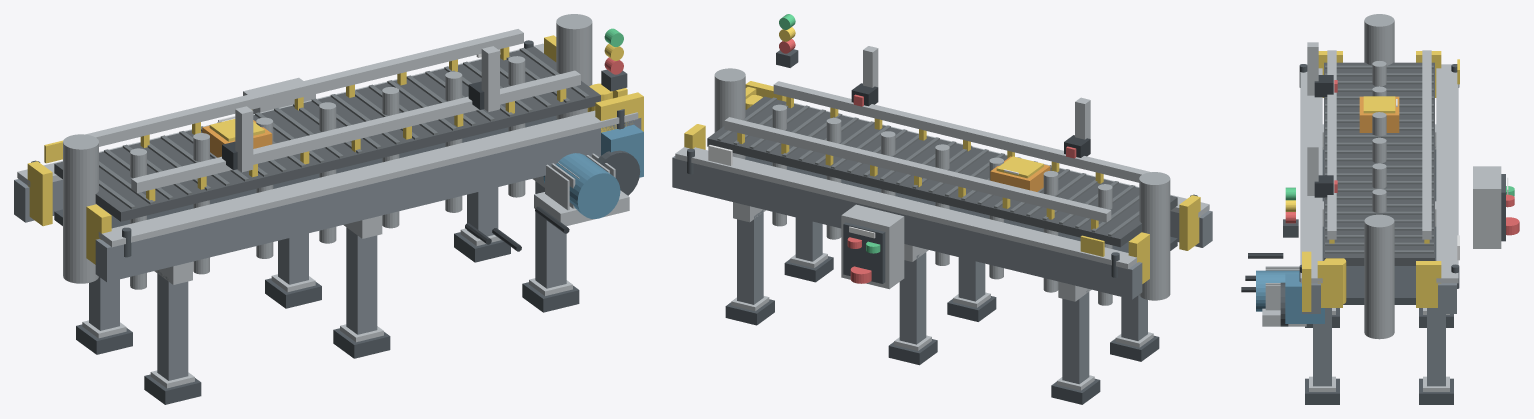
File: esteira_industrial_interativa.glb
The picture shows the model from 3 angles, left to right: view 1: azimuth 30°, elevation 25°; view 2: azimuth 150°, elevation 25°; view 3: azimuth 270°, elevation 25°; orthographic projection. The views are drawn at different scales.
Parts seen in each view (by area): view 1: Belt_Top, Side_Rail_0.43, Side_Rail_Top_0.43, Guide_Rail_-0.3, Guide_Rail_0.3, End_Roller_0, Leg_-1.15_0.36, Leg_0_0.36, Motor_Body, End_Roller_1, Leg_1.15_0.36, Belt_Underside (+31 smaller); view 2: Belt_Top, Side_Rail_-0.43, Side_Rail_Top_-0.43, Guide_Rail_-0.3, Guide_Rail_0.3, End_Roller_0, Control_Box, Leg_-1.15_-0.36, Leg_1.15_-0.36, Leg_0_-0.36, End_Roller_1, Control_Box_Face (+24 smaller); view 3: Belt_Top, Side_Rail_Top_-0.43, End_Roller_1, Side_Rail_Top_0.43, Control_Box, Guide_Rail_-0.3, Guide_Rail_0.3, Belt_Underside, End_Roller_0, Leg_1.15_-0.36, Leg_1.15_0.36, Roller_Guard_1.57_0.31 (+42 smaller).
Part boxes in pixels (x1,y1,x2,y2): Belt_Top: (54, 46, 600, 221); Side_Rail_0.43: (95, 118, 641, 282); Side_Rail_Top_0.43: (98, 110, 638, 247); Guide_Rail_-0.3: (85, 29, 523, 146); Guide_Rail_0.3: (131, 70, 580, 193); End_Roller_0: (63, 134, 98, 283); Leg_-1.15_0.36: (157, 271, 188, 380); Leg_0_0.36: (346, 227, 377, 334); Motor_Body: (543, 153, 620, 218); End_Roller_1: (556, 14, 592, 119); Leg_1.15_0.36: (535, 181, 566, 288); Belt_Underside: (54, 116, 556, 228); Belt_Top: (707, 96, 1177, 247); Side_Rail_-0.43: (672, 156, 1142, 299); Side_Rail_Top_-0.43: (675, 147, 1137, 269); Guide_Rail_-0.3: (724, 117, 1111, 222); Guide_Rail_0.3: (773, 81, 1150, 182); End_Roller_0: (1139, 172, 1170, 300); Control_Box: (841, 204, 904, 289); Leg_-1.15_-0.36: (1062, 289, 1089, 384); Leg_1.15_-0.36: (737, 209, 763, 304); Leg_0_-0.36: (899, 252, 926, 344); End_Roller_1: (714, 68, 745, 159); Control_Box_Face: (843, 222, 885, 283); Belt_Top: (1324, 62, 1434, 265); Side_Rail_Top_-0.43: (1436, 64, 1458, 283); End_Roller_1: (1364, 214, 1394, 339); Side_Rail_Top_0.43: (1300, 64, 1322, 283); Control_Box: (1473, 166, 1501, 248); Guide_Rail_-0.3: (1422, 50, 1431, 239); Guide_Rail_0.3: (1327, 50, 1336, 239); Belt_Underside: (1343, 266, 1415, 304); End_Roller_0: (1364, 14, 1394, 65); Leg_1.15_-0.36: (1427, 308, 1445, 386); Leg_1.15_0.36: (1313, 308, 1331, 386); Roller_Guard_1.57_0.31: (1317, 261, 1342, 307).
Size of the model in its own units: 3.26 by 1.6 by 1.76.
